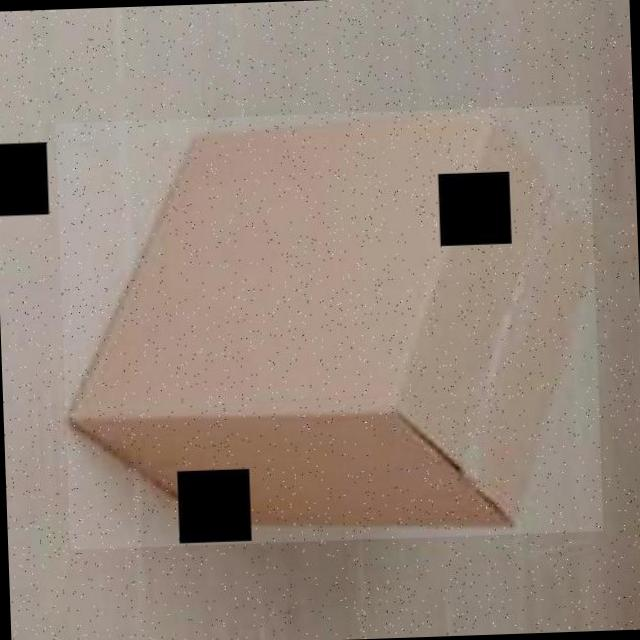box: (54, 104, 604, 549)
